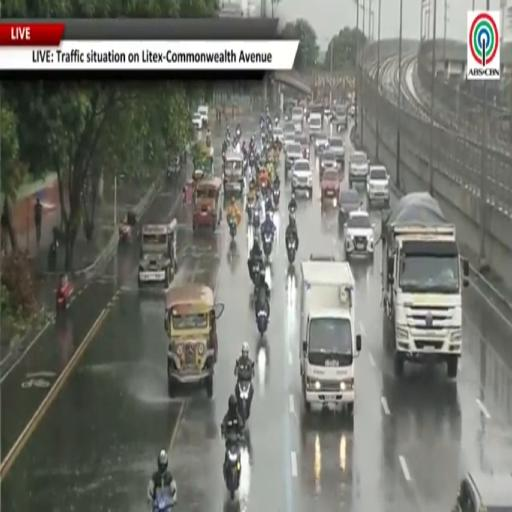car: (453, 472, 511, 511), (345, 210, 374, 260), (367, 166, 389, 206), (339, 189, 360, 229), (292, 158, 312, 198), (349, 151, 369, 187), (321, 168, 339, 201), (285, 141, 302, 172), (328, 137, 344, 168), (320, 150, 337, 178), (334, 104, 347, 132), (309, 114, 322, 141), (295, 134, 309, 158), (315, 132, 328, 154), (292, 106, 303, 131), (283, 122, 294, 146), (198, 105, 208, 127), (273, 126, 284, 143), (192, 112, 202, 130), (283, 135, 295, 150), (323, 106, 332, 121), (349, 104, 356, 118)
jeepney: (165, 284, 224, 397), (138, 219, 177, 286), (193, 178, 223, 231), (223, 152, 244, 196)
motorcycle: (224, 438, 241, 500), (236, 379, 251, 421), (56, 277, 73, 314), (152, 493, 175, 511), (256, 308, 267, 335), (251, 260, 261, 287), (263, 233, 273, 259), (287, 240, 296, 264), (246, 202, 254, 225), (228, 216, 236, 239), (253, 205, 260, 229), (273, 189, 279, 206), (289, 207, 296, 219), (259, 118, 264, 132), (206, 135, 211, 148), (236, 127, 241, 139), (274, 117, 279, 126)
truck: (381, 192, 469, 378), (300, 256, 361, 414)
